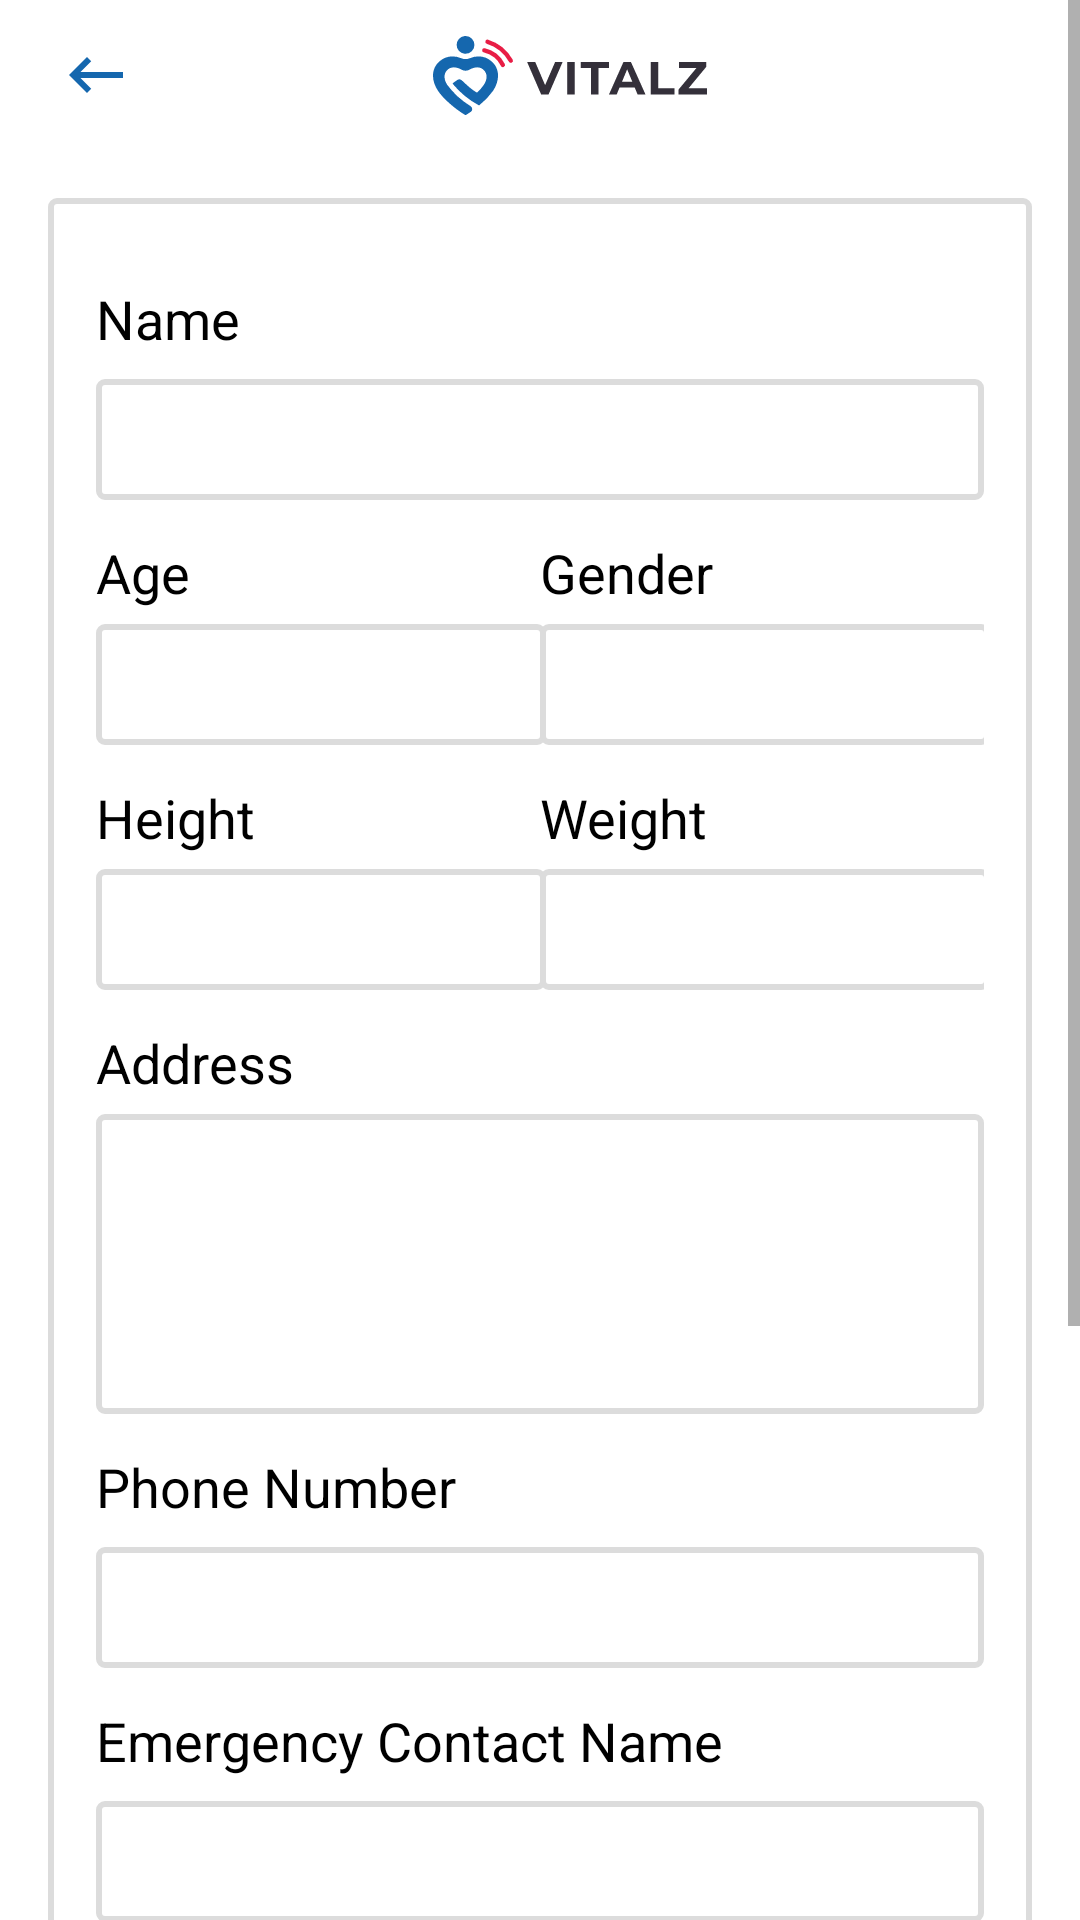

Icon click points for this 1080×1920 phone screenshot, format point (x, y):
back: point (96, 75)
